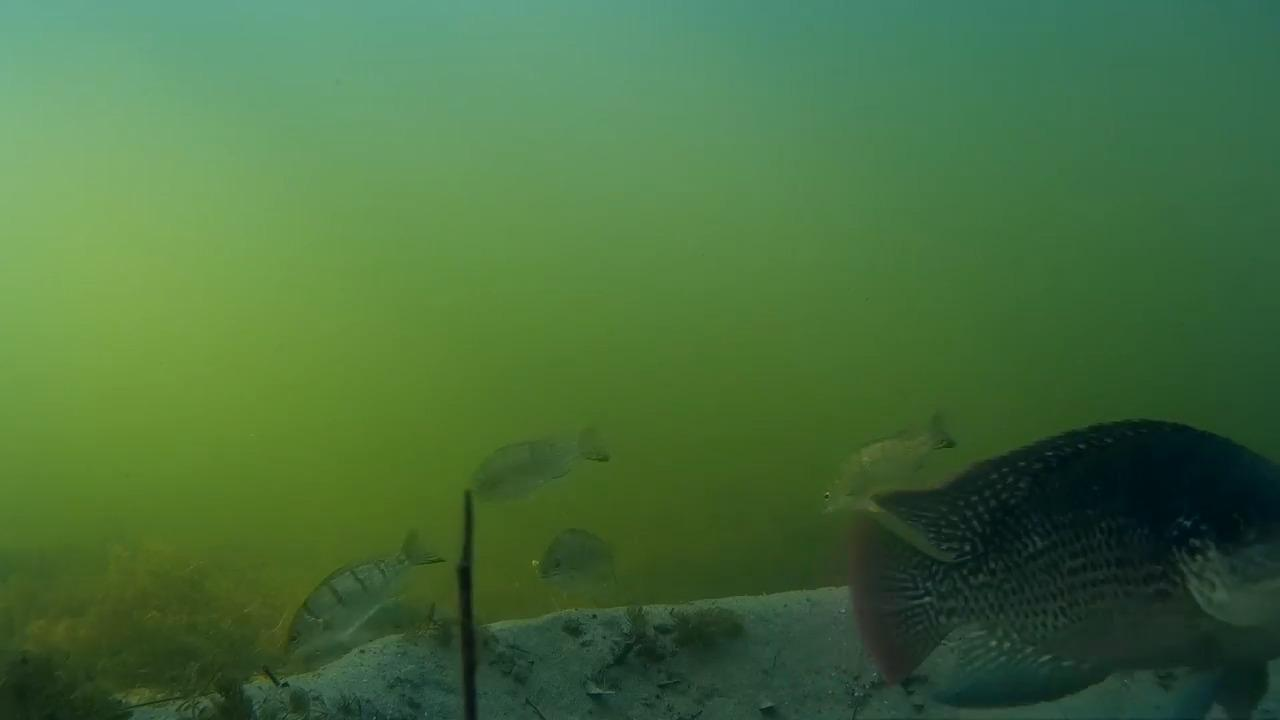Tilapia: (851, 403, 1280, 720), (271, 532, 460, 705), (803, 390, 956, 508), (462, 422, 619, 512), (535, 516, 652, 596)
